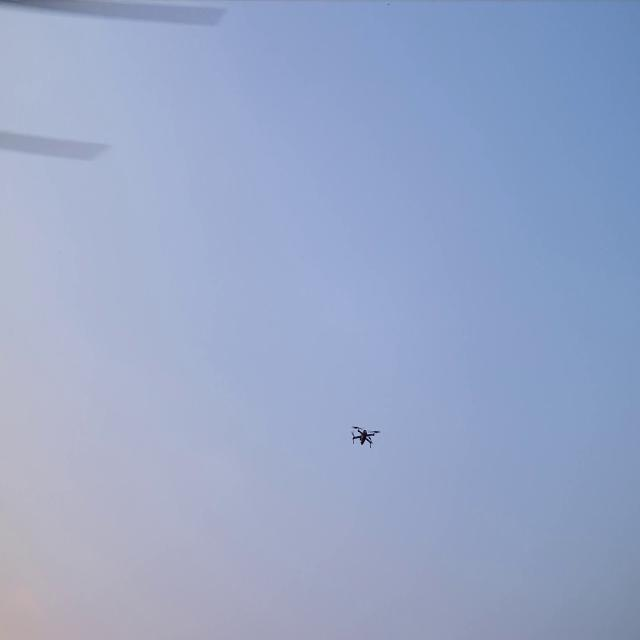UAV: (350, 423, 382, 451)
